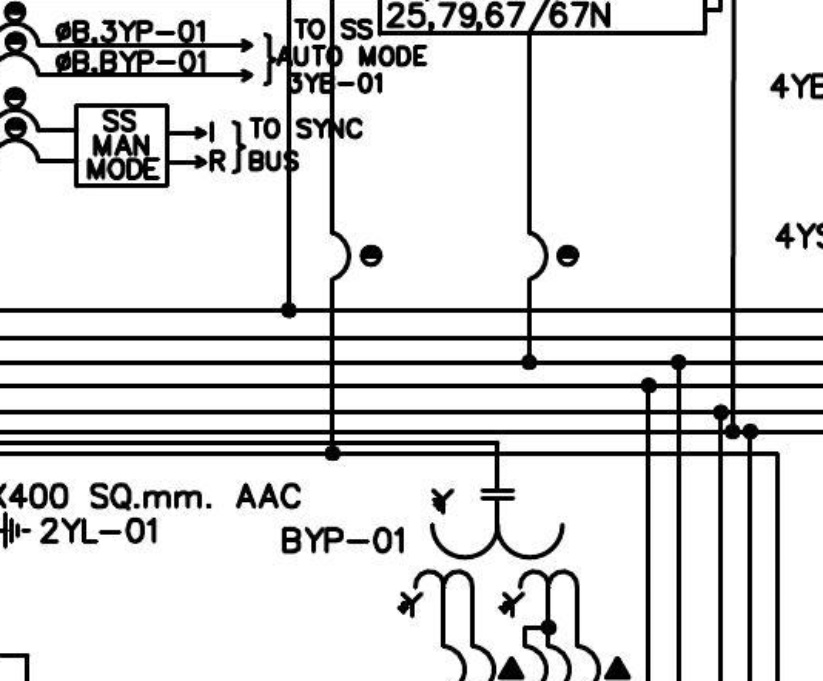115_cvt_3p: (395, 488, 581, 620)
ss_man_mode: (73, 102, 170, 189)
